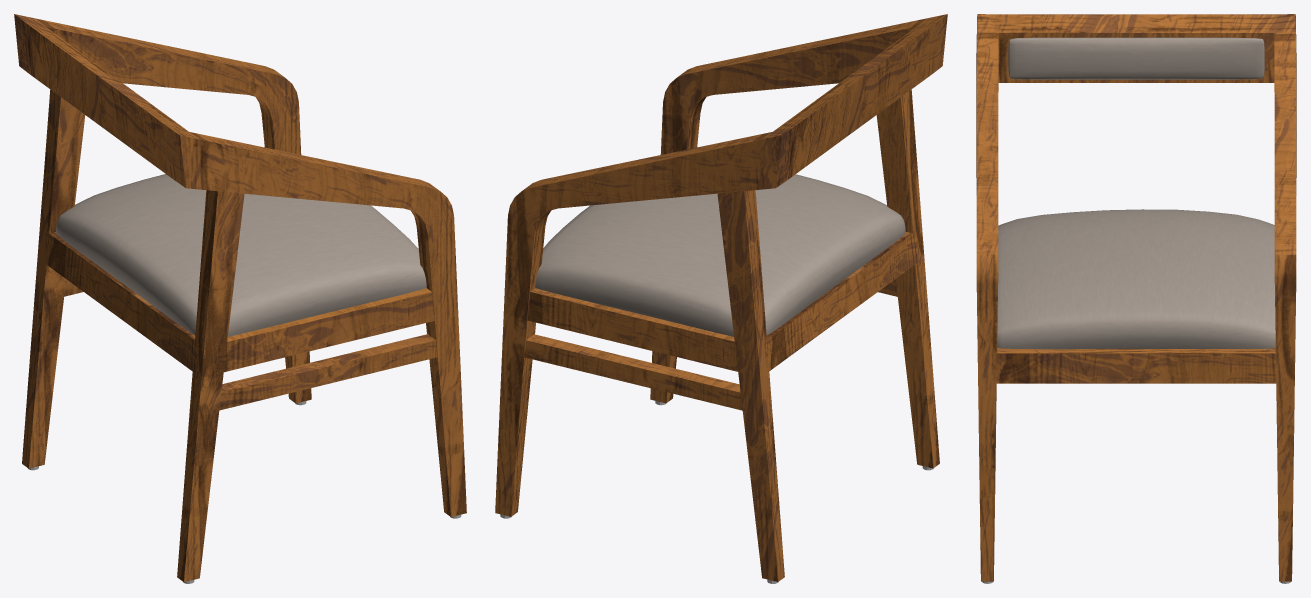
Rendered from 1739779353165_chair (2).glb.
3 renders of one model, left to right at view 1: azimuth 30°, elevation 25°; view 2: azimuth 150°, elevation 25°; view 3: azimuth 270°, elevation 25°, orthographic. The views are drawn at different scales.
Parts seen in each view (by area): view 1: wood2, sofa; view 2: wood2, sofa; view 3: sofa, wood2.
Part boxes in pixels (box(x1,y1,x2,y2)): wood2: box(14, 14, 466, 581); sofa: box(56, 174, 426, 336); wood2: box(495, 14, 947, 581); sofa: box(535, 174, 905, 336); sofa: box(997, 37, 1275, 349); wood2: box(976, 14, 1296, 581).
Size of the model in its own units: 0.5 by 0.75 by 0.5.
Materials: 3 (3 with a texture image).
